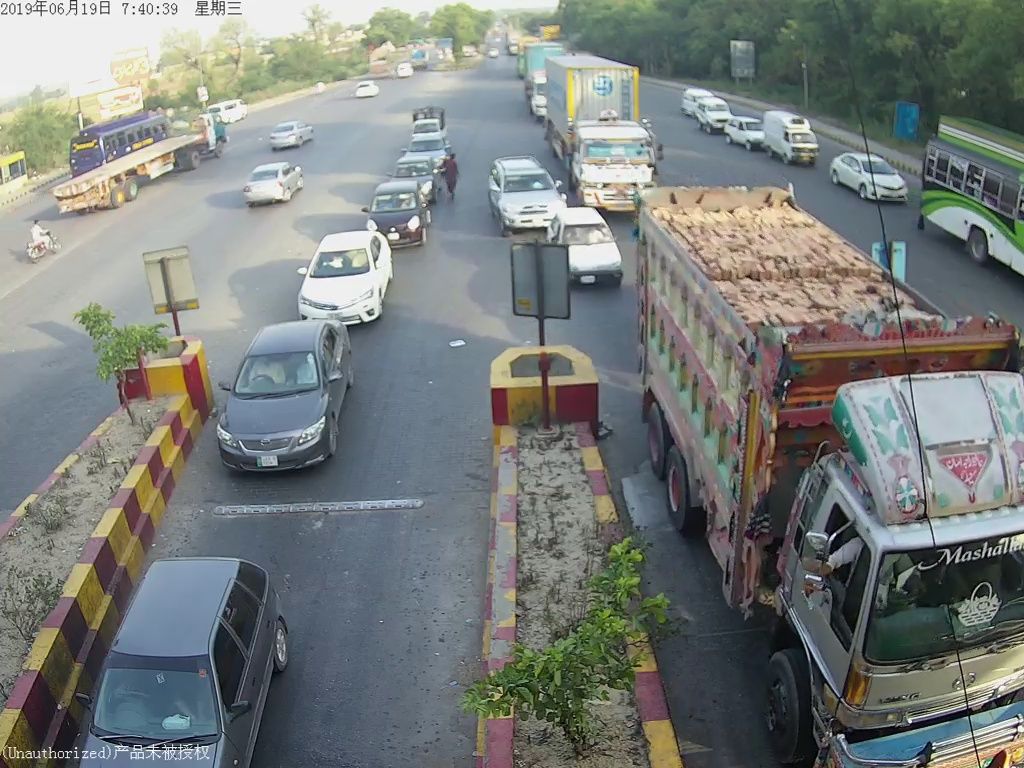Cat-1: (211, 322, 373, 478), (299, 230, 385, 320), (567, 217, 624, 291), (370, 188, 428, 237)
Cat-4: (768, 322, 1019, 768)
Cat-5: (549, 56, 655, 190)
